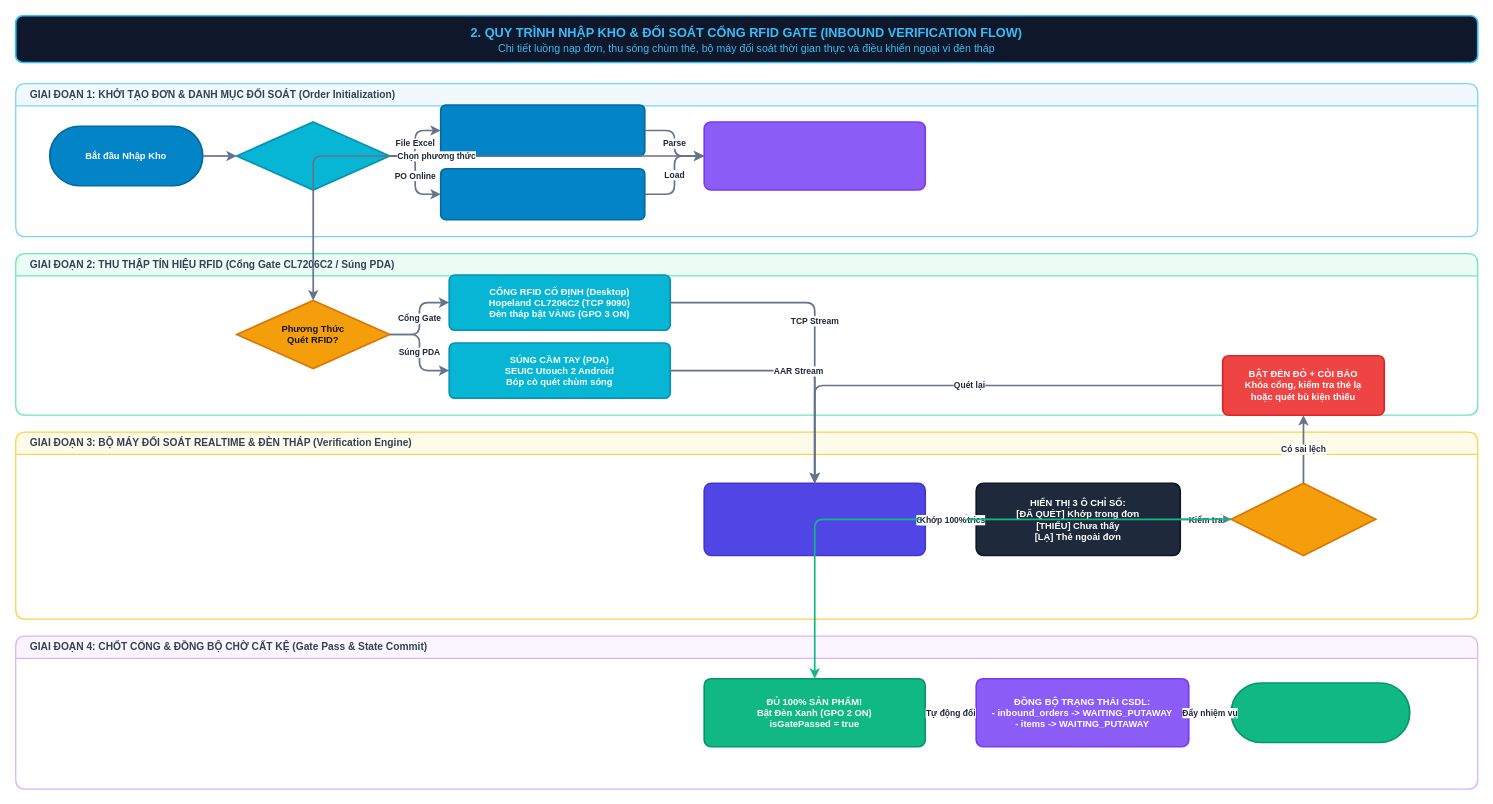
Some shapes in this 1493 by 804 pixel diagram are drawn without their labels. The shapes that lost their labels are listed below. From the top down, each one's centre as x and y in pixels, then its label:
point (542, 130): Nạp file Excel Packing List (Template-Goods-Receive-v3)
point (312, 155): Nguồn Dữ Liệu Đơn Hàng?
point (814, 155): LƯU TRỮ TỨC THÌ CSDL: - inbound_orders: newOrder - items: pendingInbound
point (542, 193): Chọn Đơn PO từ Supabase (Danh sách đơn hàng chờ)
point (814, 519): BỘ MÁY ĐỐI SOÁT REALTIME So khớp Tag Read Stream với Expected EPC Hash Set O(1)
point (1303, 519): Có Thẻ Lạ hoặc Thiếu Hàng?
point (1320, 712): SẴN SÀNG CẤT KỆ Đẩy thông báo [CẦN CẤT KỆ] đến tất cả máy PDA
